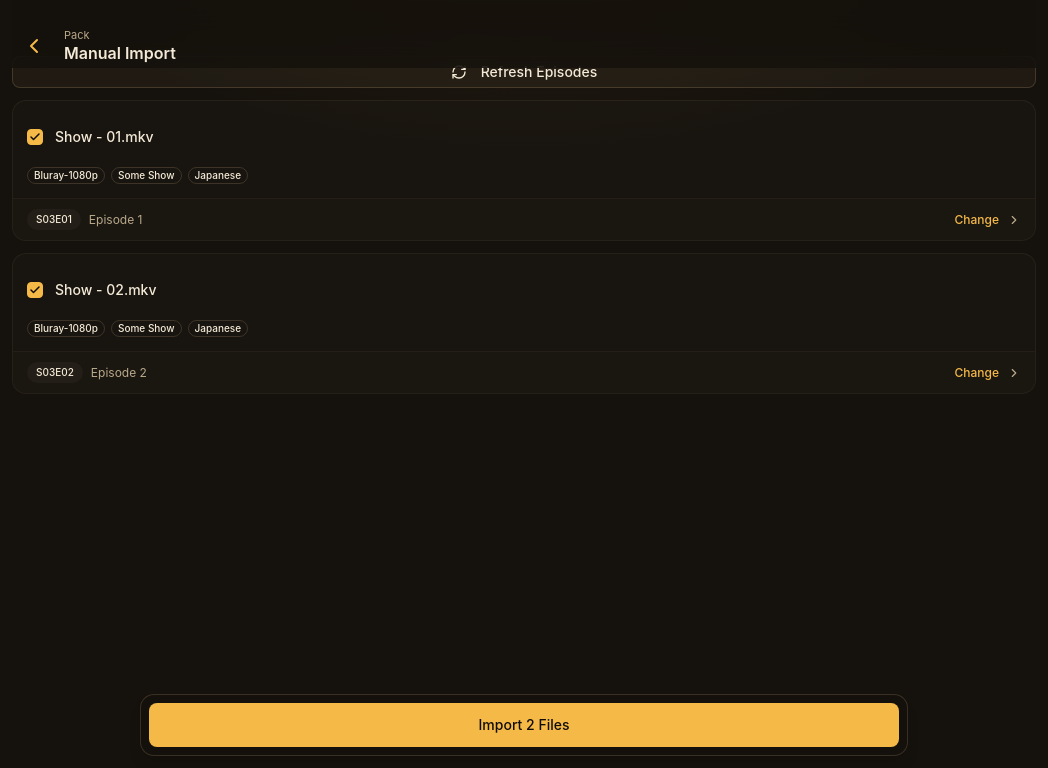
manual import page › warns about later imports only while sonarr files are unticked
This screenshot has width=1048, height=768.
Click the checkbox named "Import Show - 01.mkv" at x=35, y=137, box [27,129,43,145]
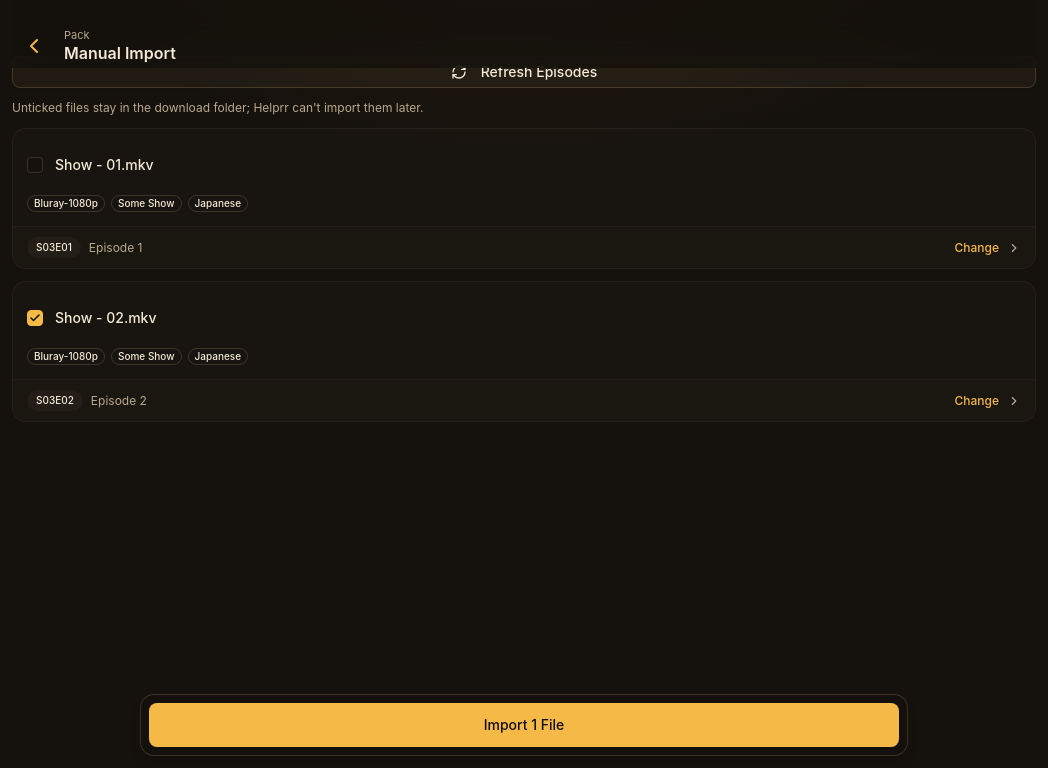
Expected: the text "Unticked files stay in the download folder; Helprr can't import them later." is shown, [12,100,424,115]
Click the checkbox named "Import Show - 01.mkv" at x=35, y=165, box [27,157,43,173]
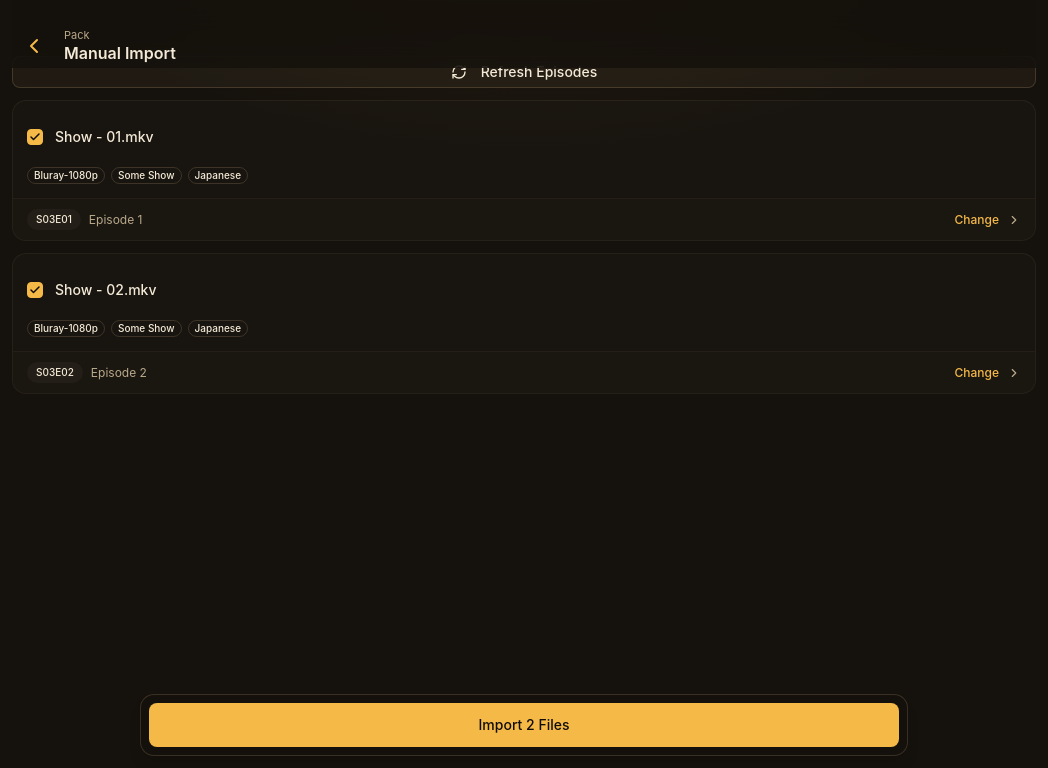
Expected: the text "Unticked files stay in the download folder; Helprr can't import them later." is gone
